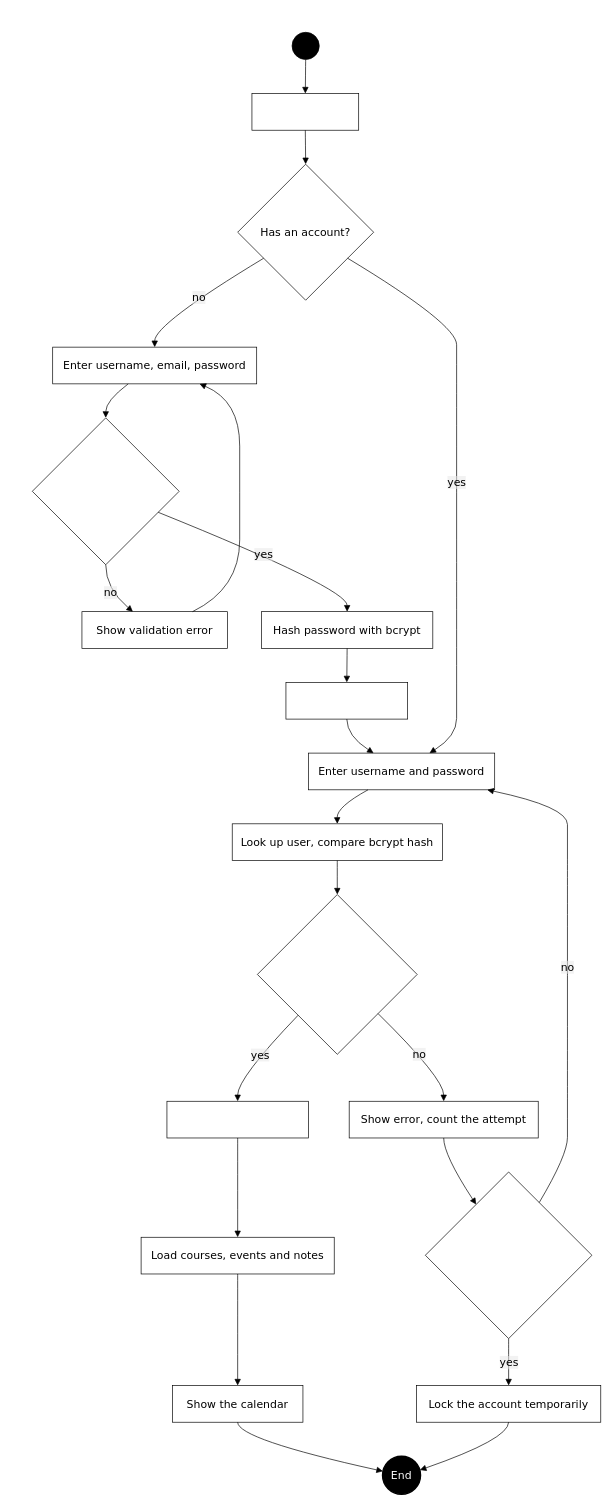
This 613x1506 diagram has some shape labels left out. Each missing label, with the box of its shape:
Create session token: (166, 1101, 308, 1138)
Credentials match?: (257, 894, 417, 1054)
Open the app: (251, 93, 359, 130)
Save user record: (285, 682, 408, 719)
Too many attempts?: (425, 1171, 592, 1339)
Valid and unique?: (32, 417, 179, 565)
